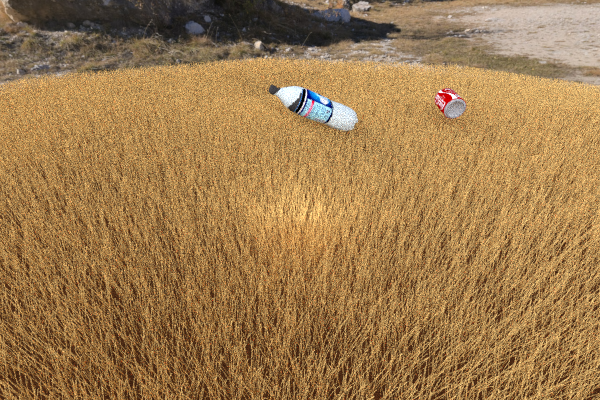bottle: (268, 84, 358, 131)
can: (434, 88, 466, 118)
